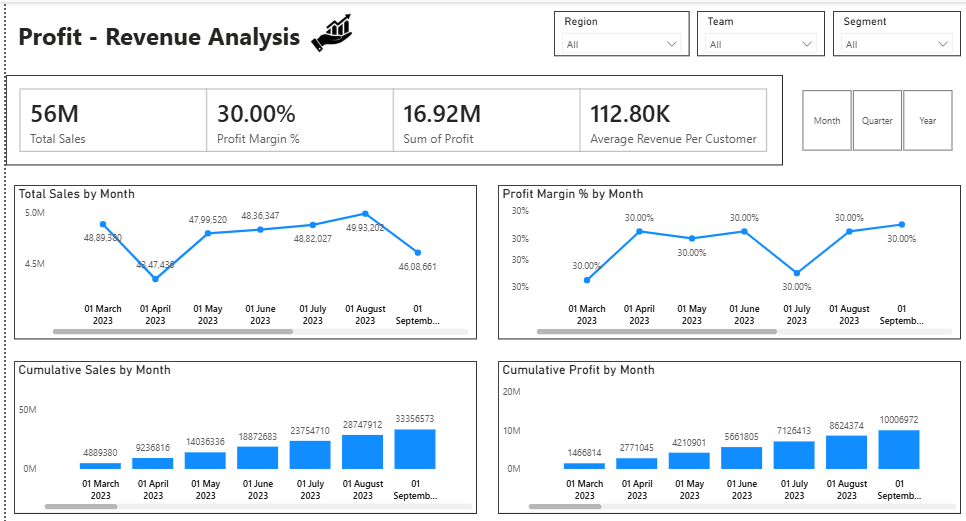

Layout of this report page (visuals, bound fields, positions):
{"tool":"powerbi","page":{"name":"Profit & Revenue Analysis","canvas":[1280,720],"ordinal":4},"visuals":[{"type":"slicer","fields":{"Values":["Customers.Region"]},"box":[727.3,11.7,180,60],"z":0},{"type":"slicer","fields":{"Values":["SalesData.Team"]},"box":[917.6,11.7,169.8,60],"z":1000},{"type":"slicer","fields":{"Values":["SalesData.Segment"]},"box":[1099,11.7,169.8,60],"z":2000},{"type":"cardVisual","fields":{"Data":["_All Measures.Total Sales","_All Measures.Profit Margin %","Sum(SalesData.Profit)","_All Measures.Average Revenue Per Customer"]},"box":[0,96.6,1031.7,120],"z":3000},{"type":"lineChart","fields":{"Category":["Calendar.Start of Month","Calendar.Quarter","Calendar.Year"],"Y":["_All Measures.Profit Margin %"]},"box":[654.1,242.9,614.6,204.9],"z":4000},{"type":"lineChart","fields":{"Category":["Calendar.Start of Month","Calendar.Quarter","Calendar.Year"],"Y":["_All Measures.Total Sales"]},"box":[10.2,242.9,614.6,204.9],"z":5000},{"type":"slicer","fields":{"Values":["Period2.Period2"]},"box":[1031.7,109.8,248.8,93.7],"z":6000},{"type":"clusteredColumnChart","fields":{"Category":["Calendar.Start of Month","Calendar.Quarter","Calendar.Year"],"Y":["_All Measures.Cummulative Sales"]},"box":[10.2,477.1,614.6,203.4],"z":7000},{"type":"clusteredColumnChart","fields":{"Category":["Calendar.Start of Month","Calendar.Quarter","Calendar.Year"],"Y":["_All Measures.Cummulative Profit"]},"box":[654.1,477.1,614.6,203.4],"z":8000},{"type":"textbox","box":[10.2,17.6,443.4,54.1],"z":9000},{"type":"image","box":[373.2,5.9,118.5,71.7],"z":10000}]}

Visuals, with their boxes on the page's 1280x720 design canvas (x1, y1, x2, y2). These are canvas units, not pixel positions in the 966x521 screenshot, which may show the page scaled, cropped or inside an application window:
slicer - Customers.Region: Rect(727, 12, 907, 72)
slicer - SalesData.Team: Rect(918, 12, 1087, 72)
slicer - SalesData.Segment: Rect(1099, 12, 1269, 72)
cardVisual - _All Measures.Total Sales x _All Measures.Profit Margin %: Rect(0, 97, 1032, 217)
lineChart - Calendar.Start of Month x Calendar.Quarter: Rect(654, 243, 1269, 448)
lineChart - Calendar.Start of Month x Calendar.Quarter: Rect(10, 243, 625, 448)
slicer - Period2.Period2: Rect(1032, 110, 1280, 204)
clusteredColumnChart - Calendar.Start of Month x Calendar.Quarter: Rect(10, 477, 625, 680)
clusteredColumnChart - Calendar.Start of Month x Calendar.Quarter: Rect(654, 477, 1269, 680)
textbox: Rect(10, 18, 454, 72)
image: Rect(373, 6, 492, 78)
